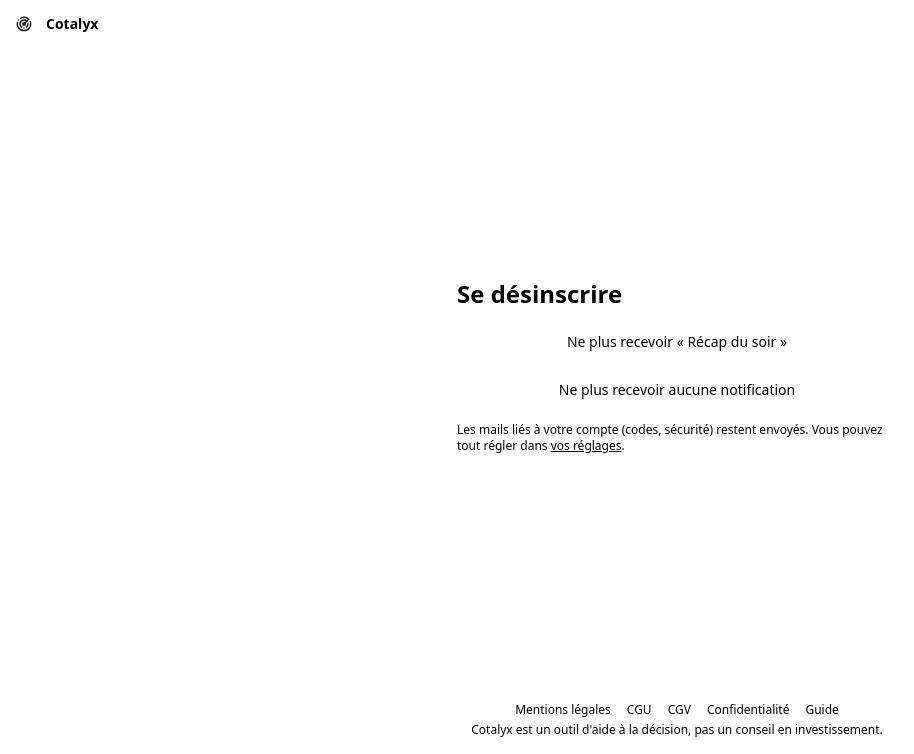
it: désinscription d'un seul mail
This screenshot has width=914, height=754.
What coordinates should you click on to do the following:
click the button "Ne plus recevoir « Récap du soir »"
I would click on:
 (677, 342)
Its box is [457,326,897,358].
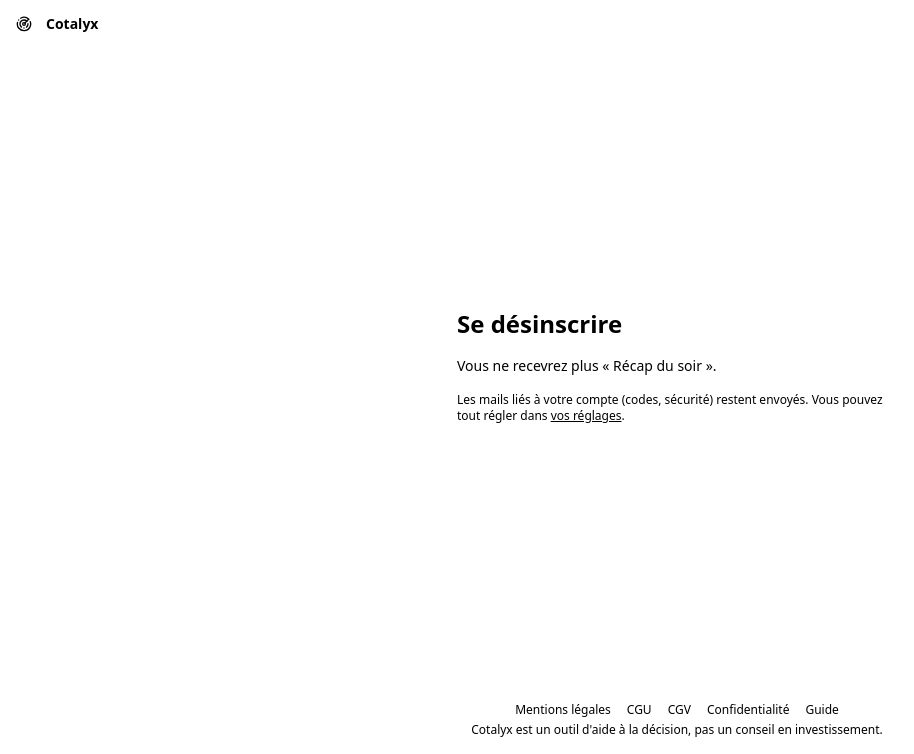
Result: the message shows "Vous ne recevrez plus « Récap du soir »" at [457,356,716,375]
